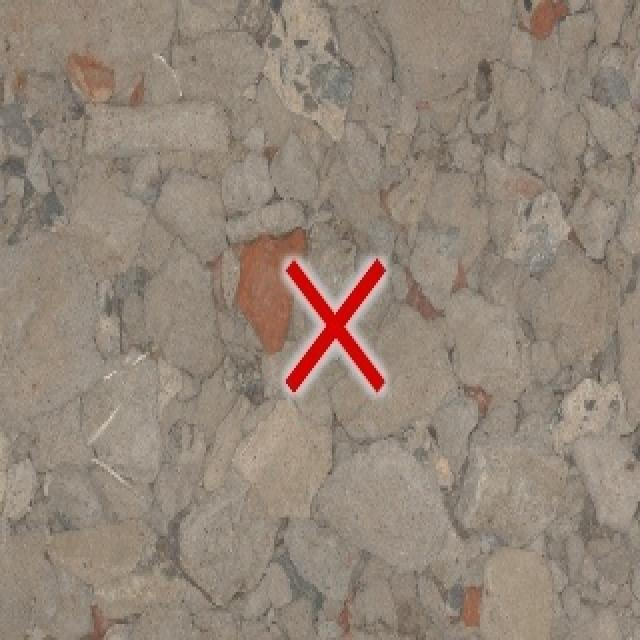x_marker: (285, 260, 383, 391)
